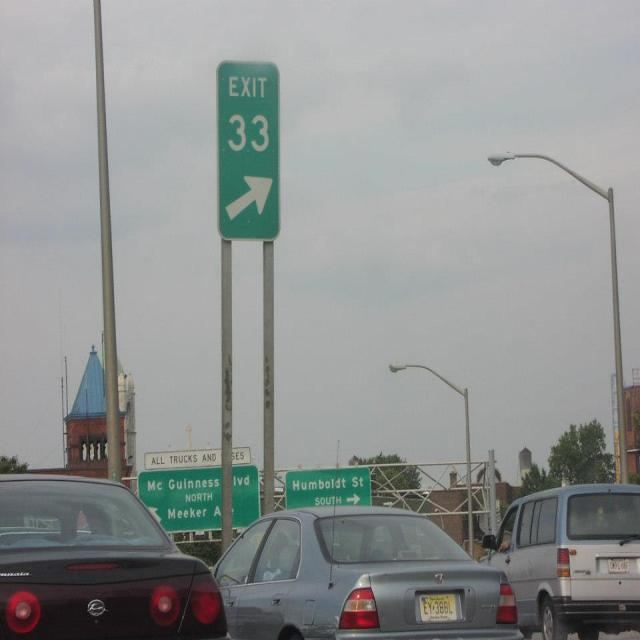Electric pole: (489, 152, 631, 484), (390, 364, 475, 557)
